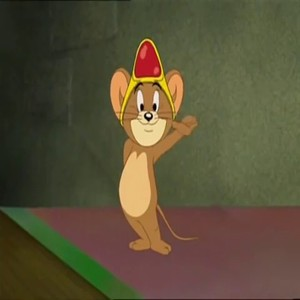Jerry: (101, 36, 202, 254)
